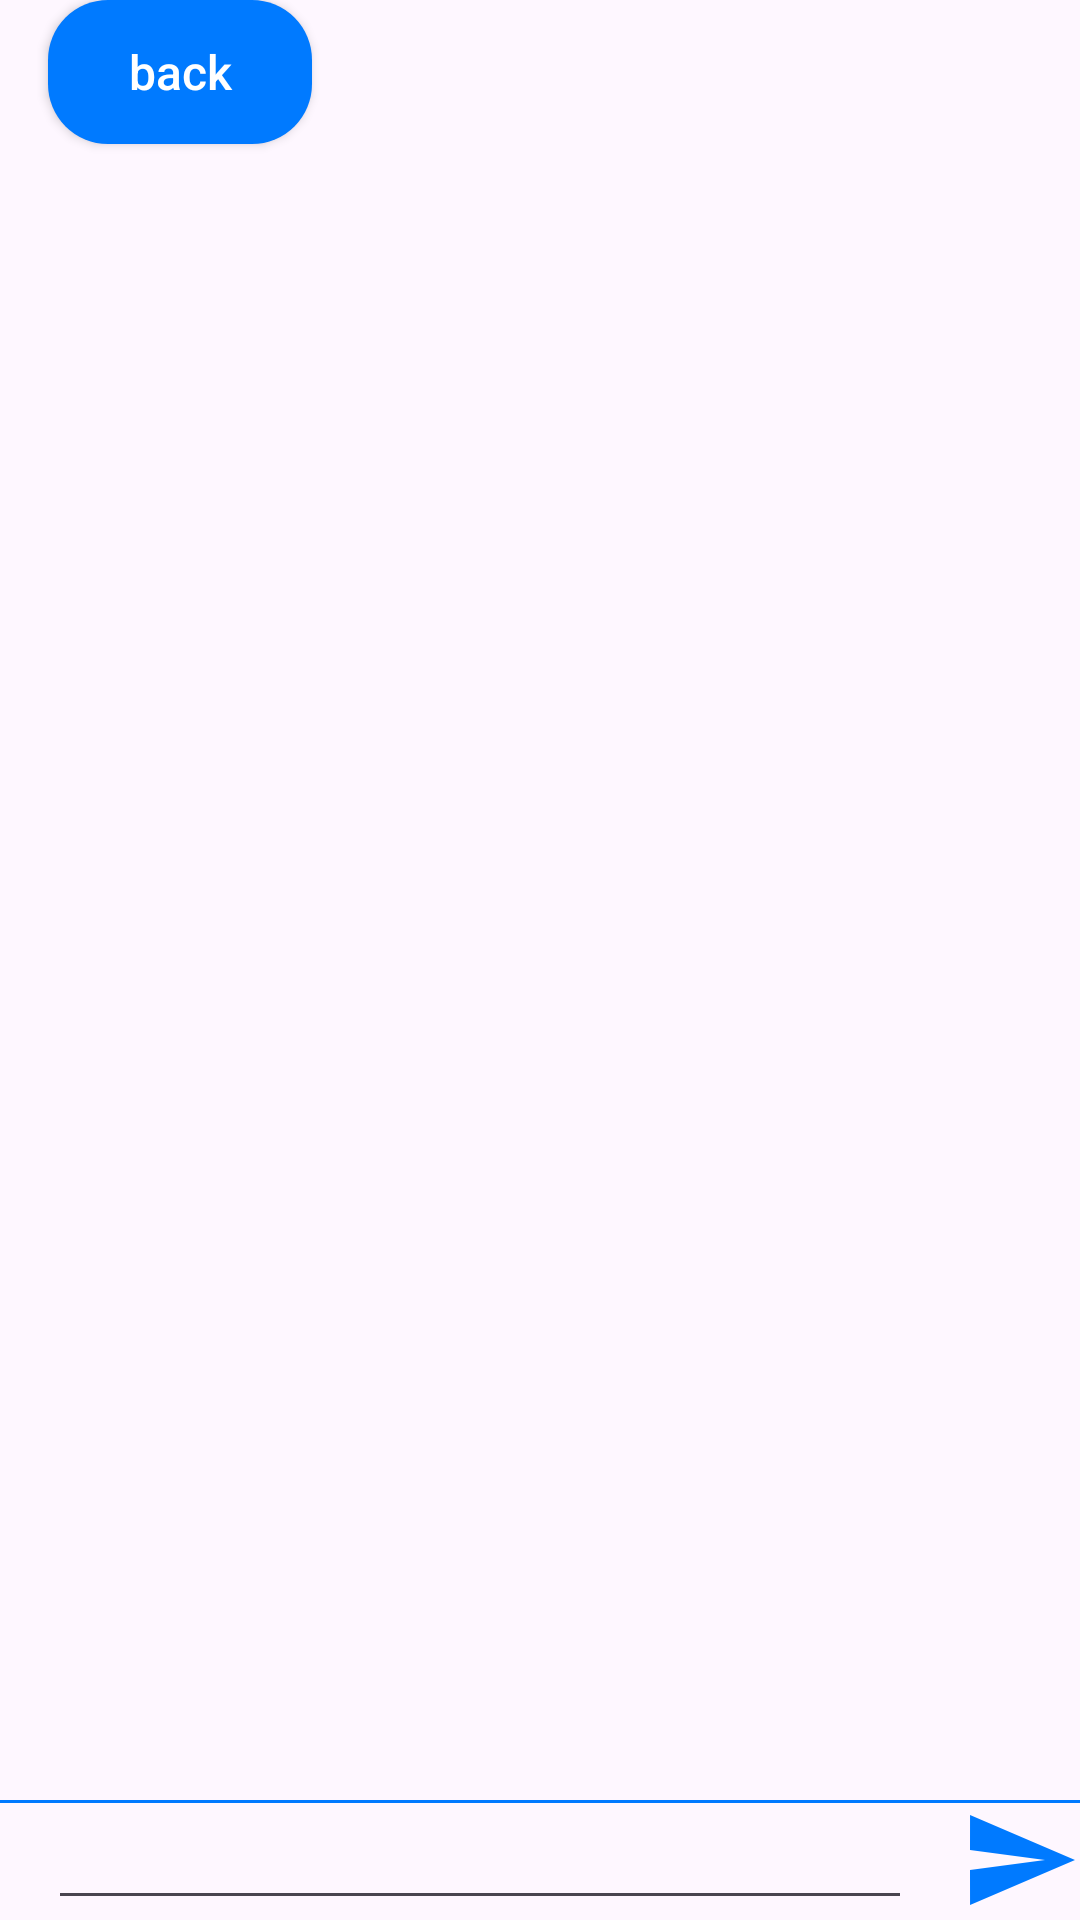

Point at icon controls on the screen. Image size 1080 x 1920, points as (x,y).
send: (1022,1860)
